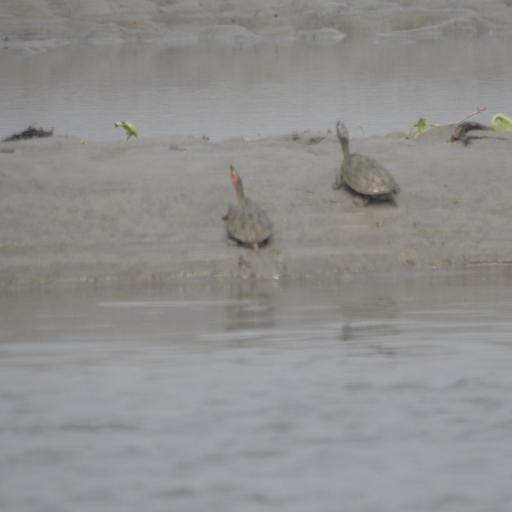turtle: (336, 119, 402, 209), (222, 164, 274, 250)
